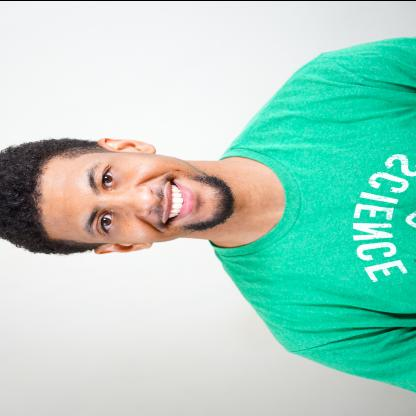Eye: (97, 209, 119, 236), (101, 164, 119, 192)
Mouth: (163, 177, 194, 224)
Nose: (108, 185, 158, 216)
